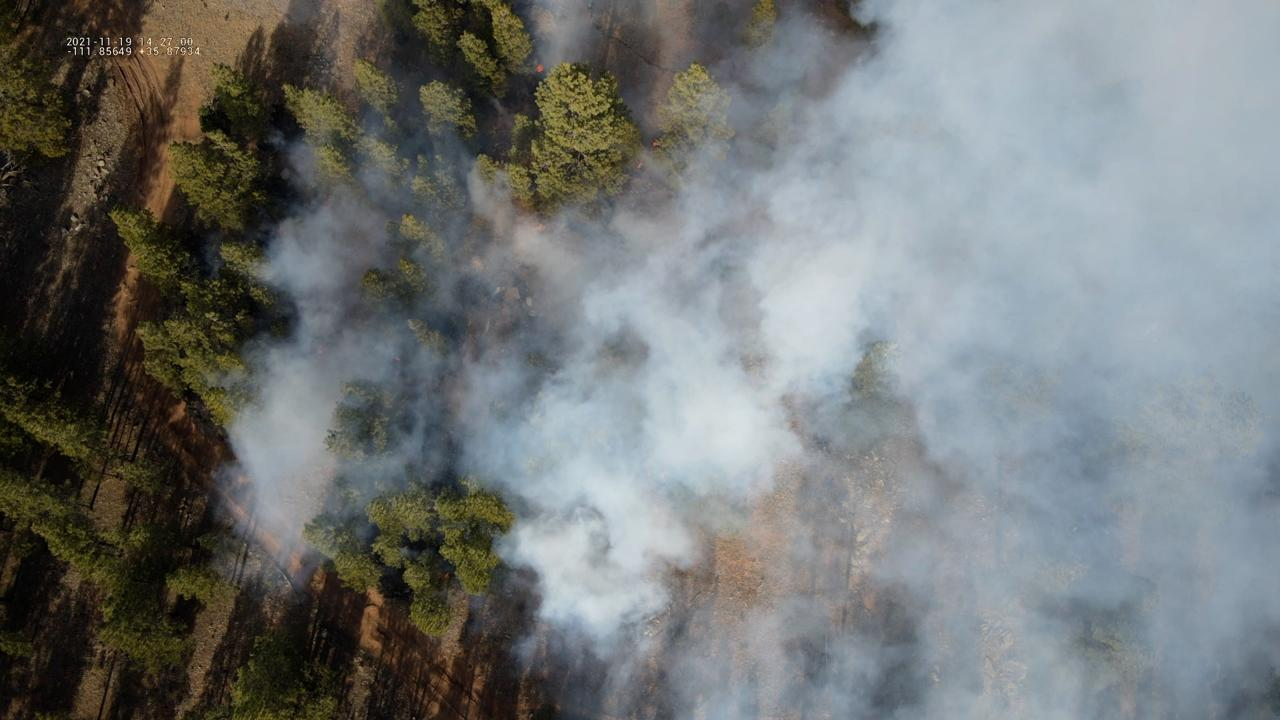fire: (533, 63, 545, 73), (648, 139, 658, 148), (635, 161, 644, 169)
smoke: (191, 0, 1280, 720)
